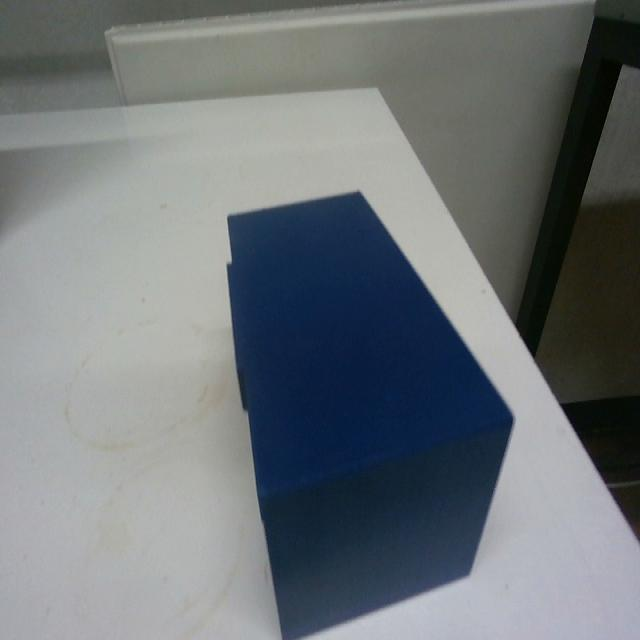Blue Cuboid: (222, 185, 516, 636)
